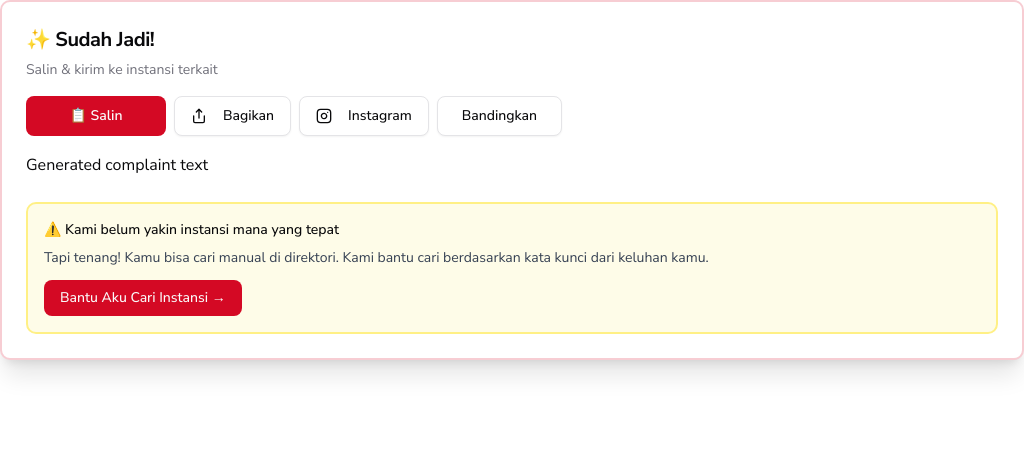
Test: User Control & Freedom › Edit Capability › allows viewing comparison to edit original
Click the button "Bandingkan": (499, 116) top-left (437, 96), bottom-right (562, 136)
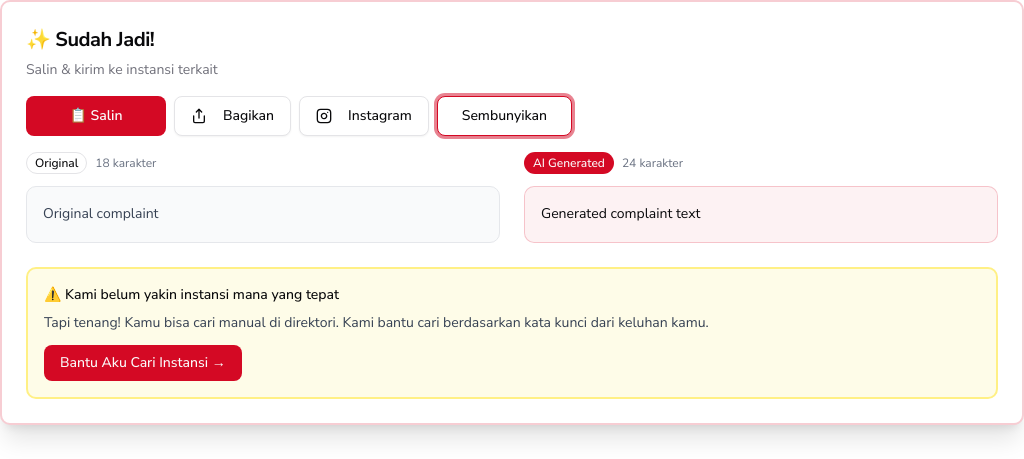
Expected: the text "Generated complaint text" is shown, top-left (541, 204), bottom-right (700, 223)
Expected: the text "Original complaint" is shown, top-left (43, 204), bottom-right (158, 223)
